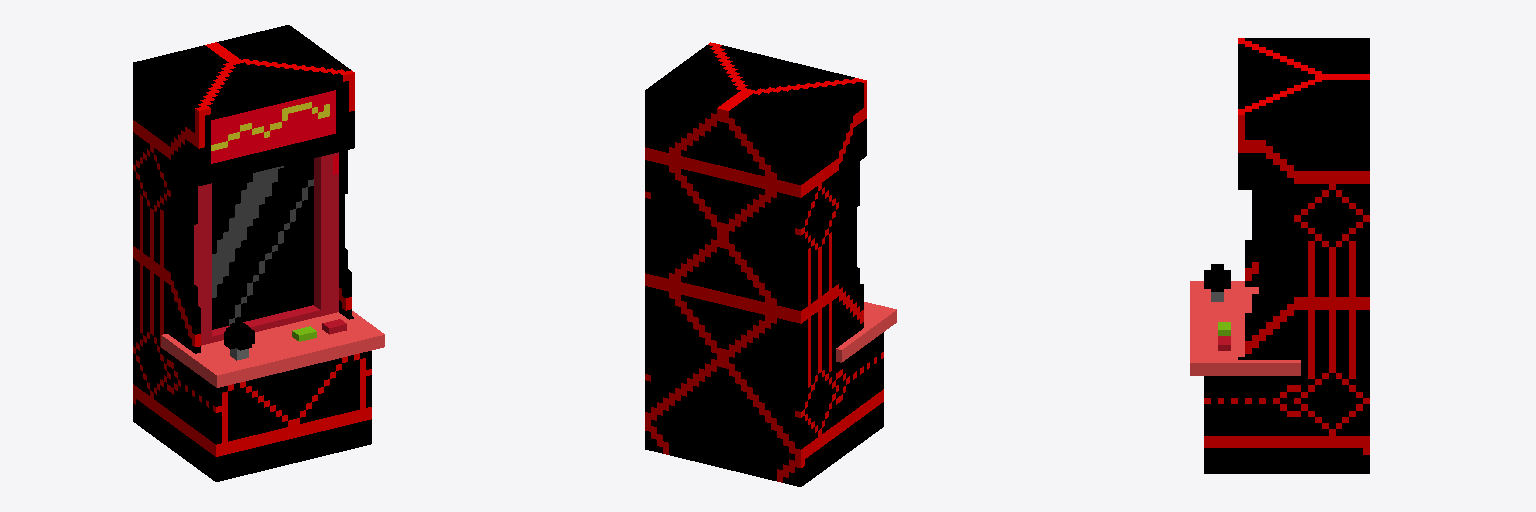
The picture shows the model from 3 angles: view 1: azimuth 30°, elevation 25°; view 2: azimuth 150°, elevation 25°; view 3: azimuth 270°, elevation 25°; orthographic projection.
Visible parts, largest first — view 1: object 1; view 2: object 1; view 3: object 1.
Boxes of the visible parts, box(x1,y1,x2,y2) form: object 1: box(133, 25, 384, 481); object 1: box(645, 42, 896, 486); object 1: box(1190, 38, 1369, 473).
Size of the model in its own units: 2.8 by 5.7 by 2.6.
1 materials, 1 textured.